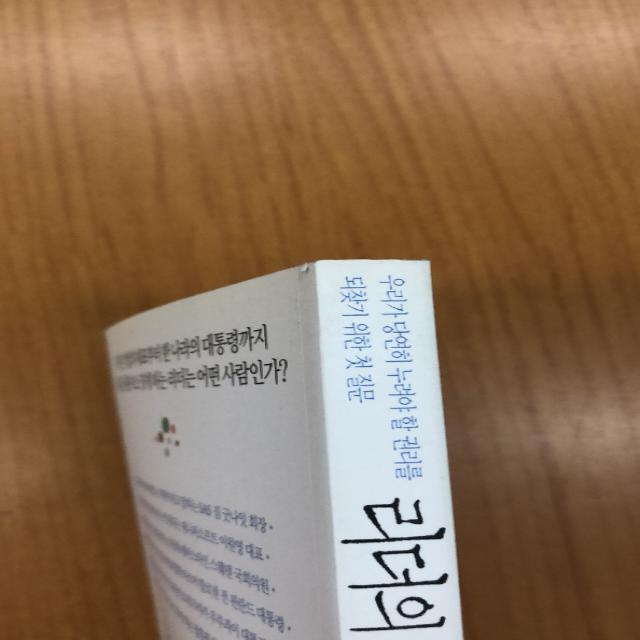Ripped: (270, 257, 316, 284)
Wornout: (315, 254, 434, 270)
